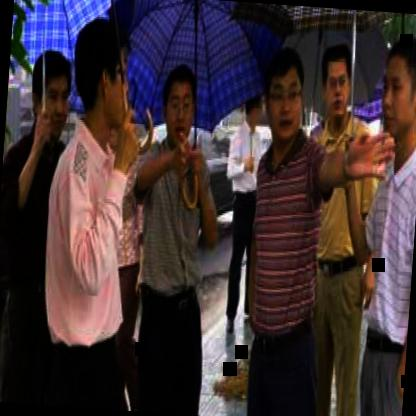head: (70, 17, 130, 146), (21, 39, 76, 146), (260, 35, 310, 146), (376, 29, 416, 150), (156, 57, 203, 148), (316, 32, 356, 130)
